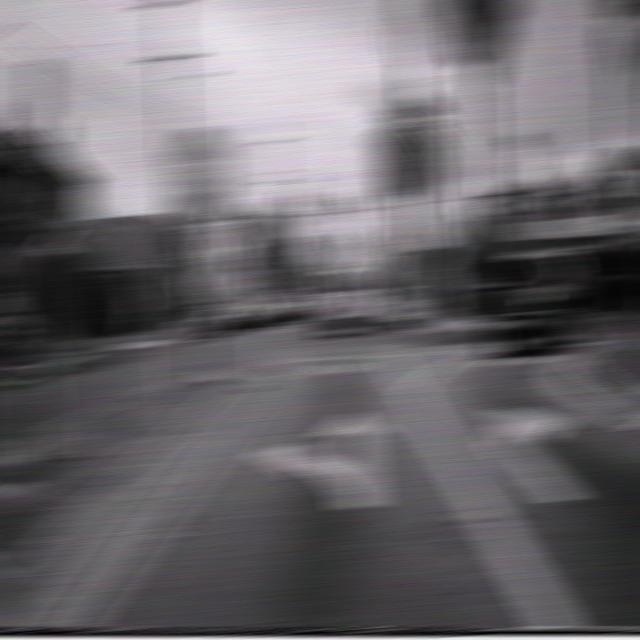stop: (165, 125, 232, 228)
